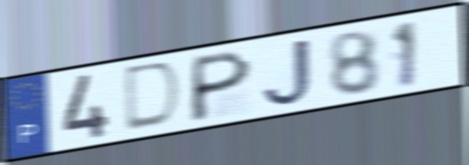1: (388, 17, 422, 89)
4: (60, 72, 111, 142)
8: (326, 28, 383, 98)
D: (122, 59, 185, 135)
J: (259, 36, 315, 111)
P: (186, 47, 255, 125)
